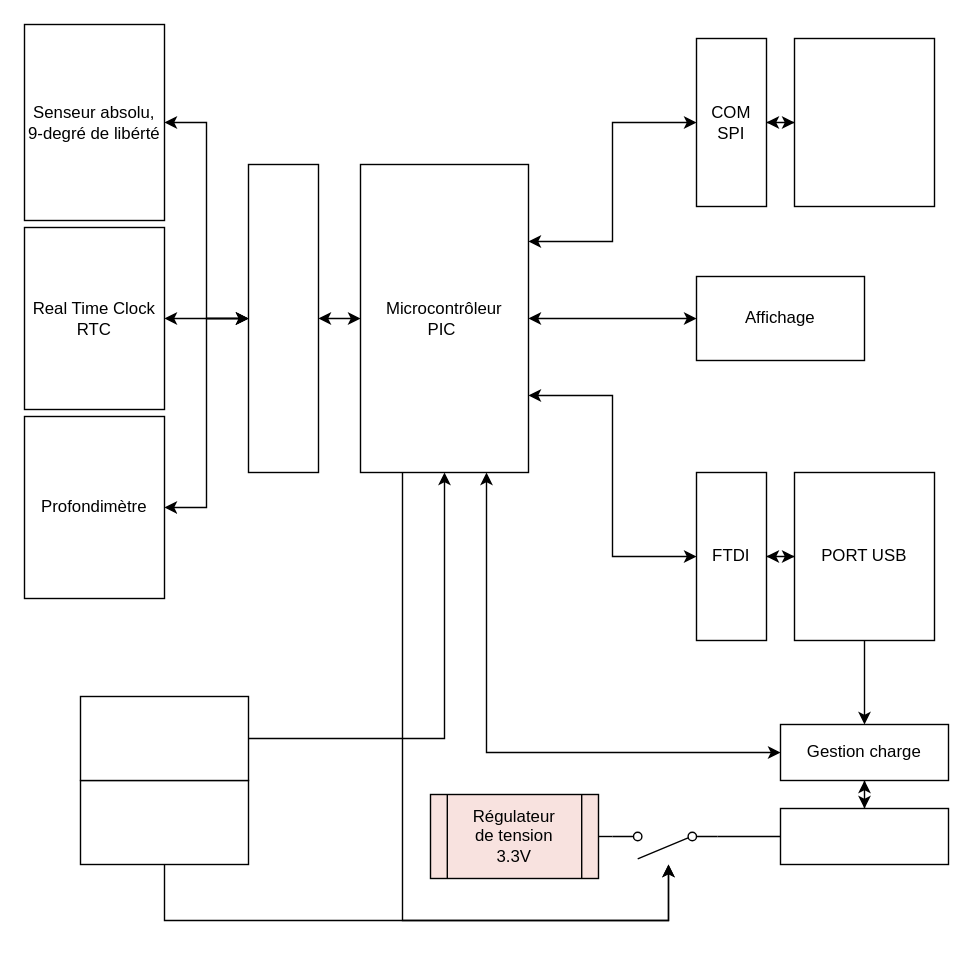
Image size: 973x956. Some labels were removed from this diagram. Here are the shapes that lost their labels. From the top down, the centre of each, then its label:
the point at 863,121: Carte SD
the point at 282,317: COM I2C
the point at 163,737: Bouton SAVE
the point at 163,821: Bouton ON/OFF
the point at 863,835: Batteries
